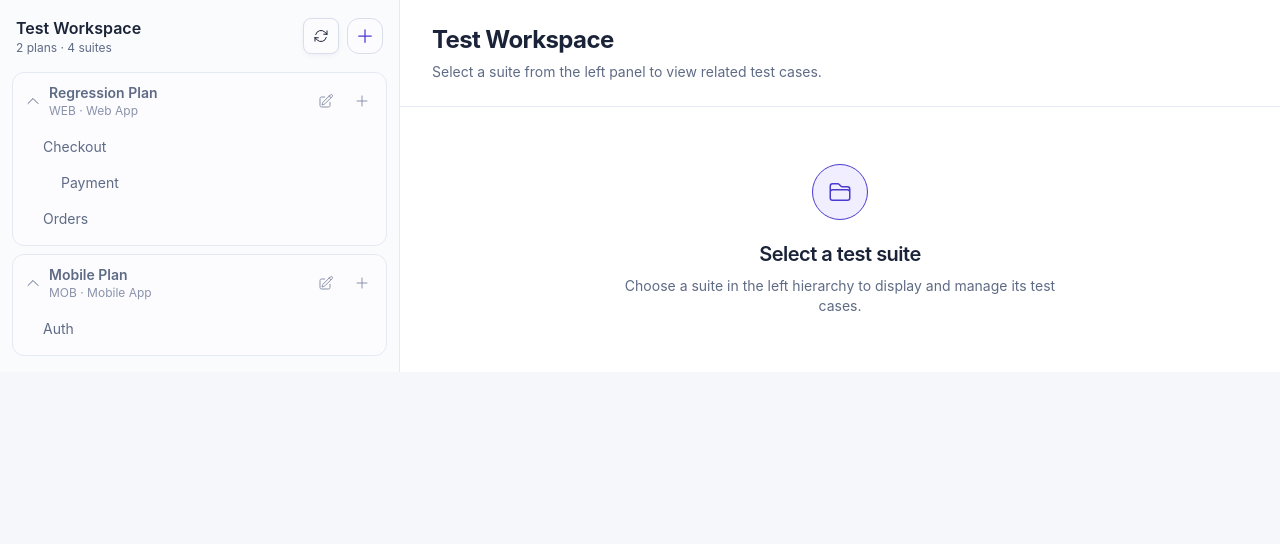
TestManagementWorkspace › creates a suite inline with Enter, trims name, and selects it
Expected: the text "Regression Plan" is shown, [49,84,158,101]
Click the button named "Create suite in Regression Plan" at (362, 101), box [346,83,378,119]
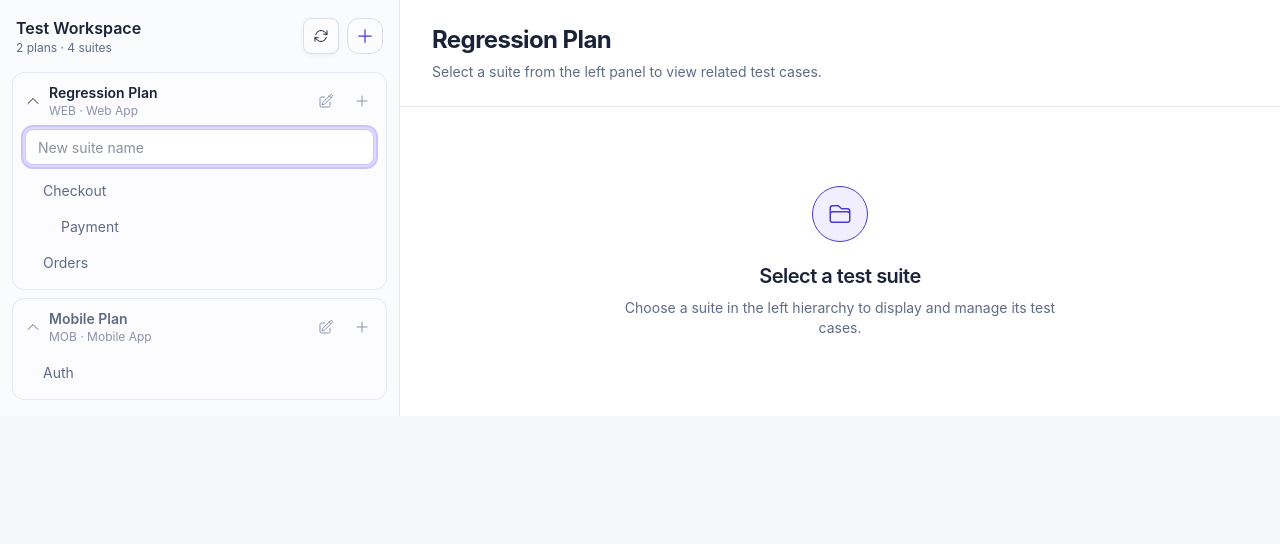
Type "  New Inline Suite  " into the field named "New suite name for Regression Plan" at (200, 147), box [25,129,374,165]
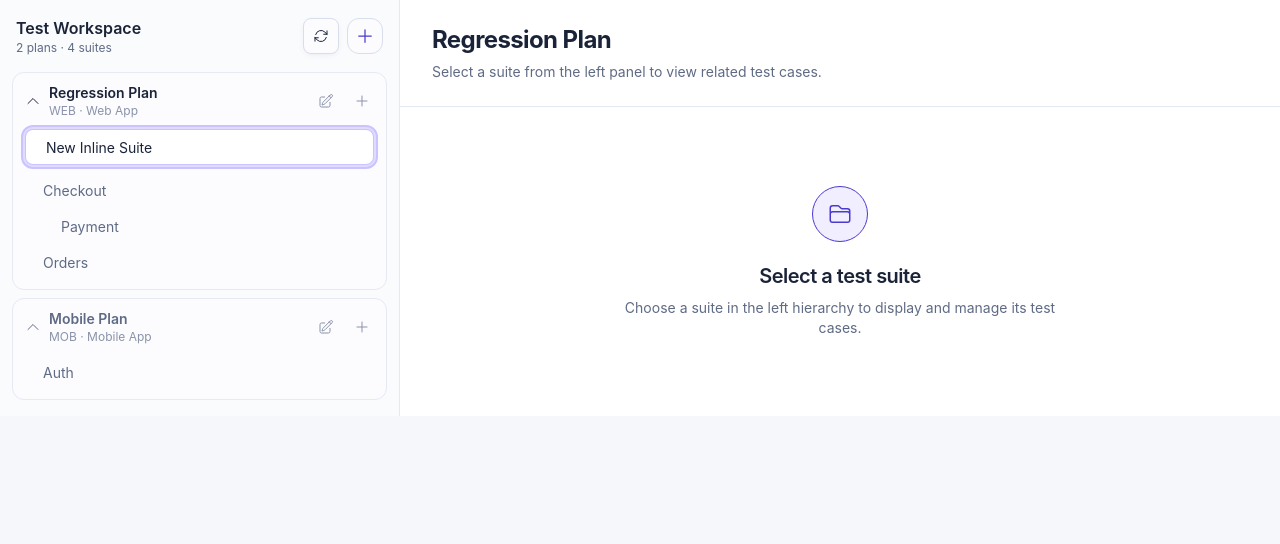
Press Enter in the field named "New suite name for Regression Plan", box [25,129,374,165]
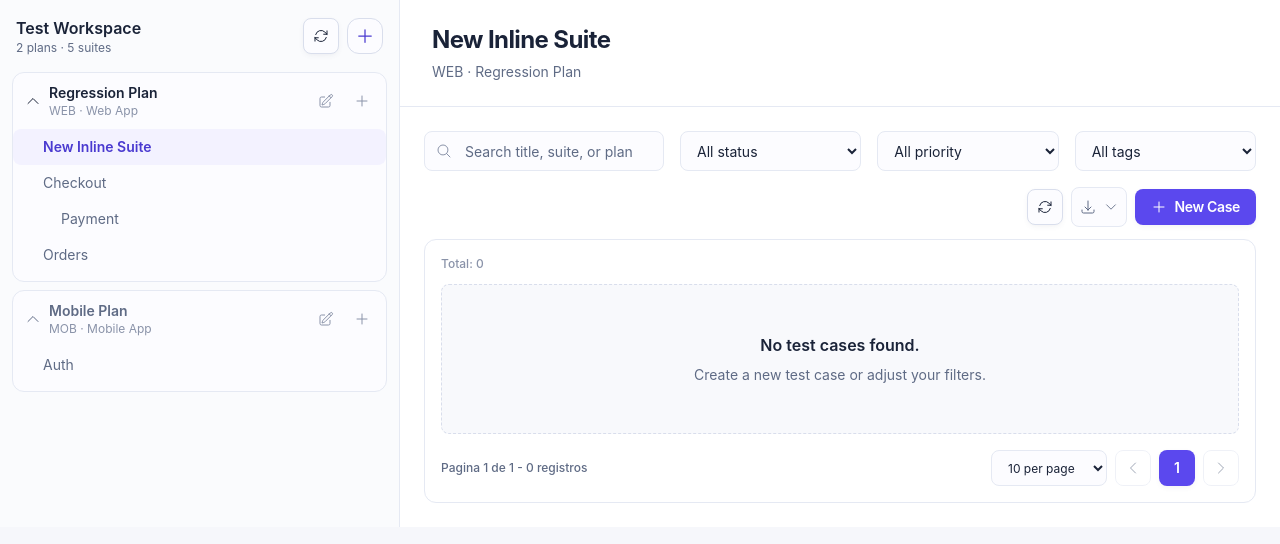
Expected: the button "New Inline Suite" is shown, [13,129,386,165]
Expected: the heading "New Inline Suite" is shown, [432,24,610,56]
